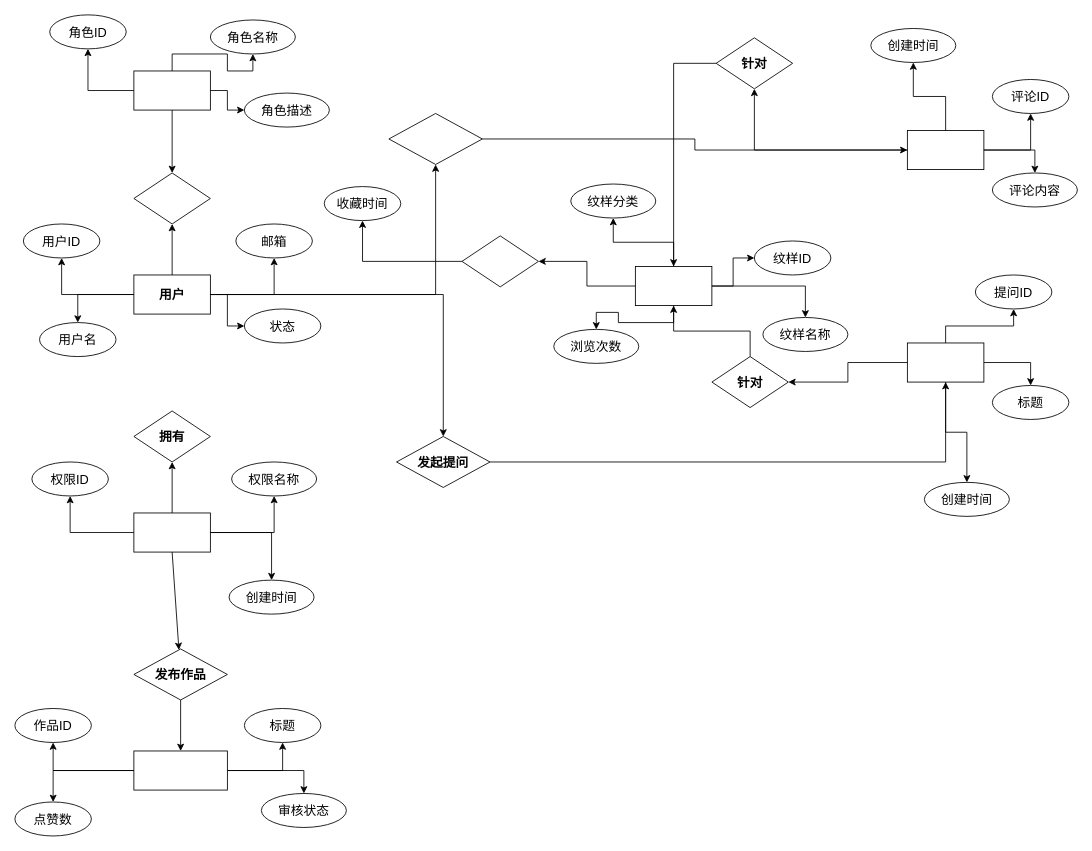
Image size: 1092x851. Some labels were removed from this diagram. The shapes that lost their labels are listed below. From the top down, each one's centre as x and y in pixels, then its label:
pixel 171 90: 角色
pixel 435 138: 发表评论
pixel 945 150: 评论
pixel 171 198: 属于
pixel 499 261: 收藏
pixel 673 286: 纹样
pixel 945 362: 提问
pixel 171 532: 权限
pixel 180 770: 原创作品
